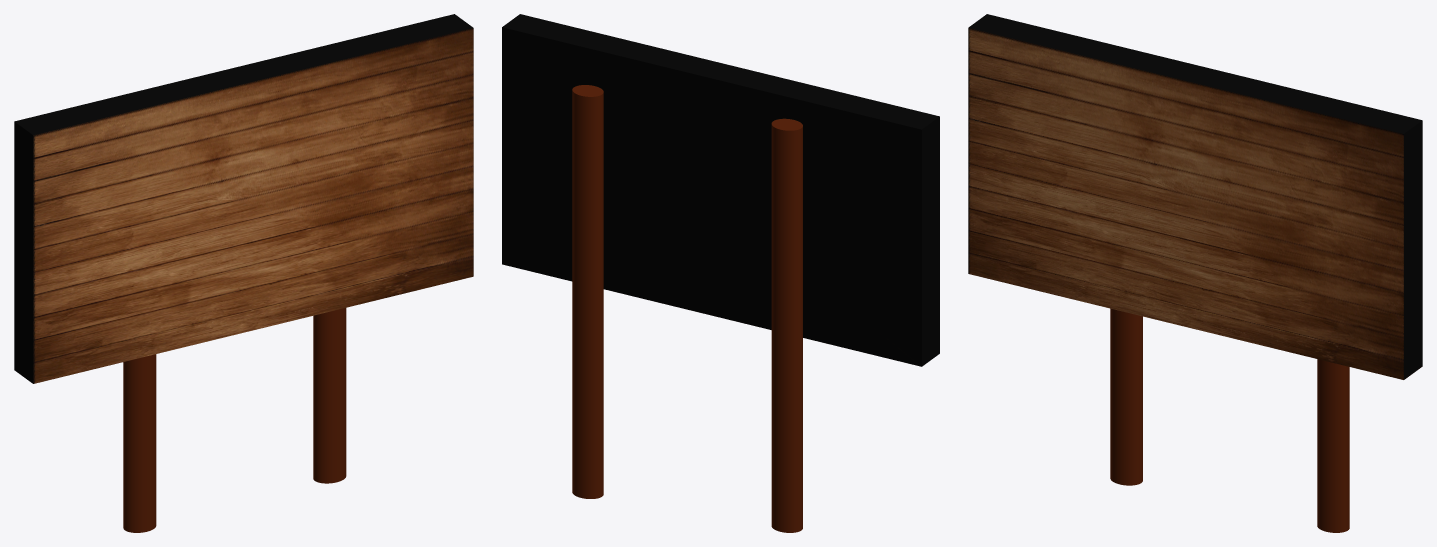
The model's file is Bilboard.fbx.
3 renders of one model, left to right at view 1: azimuth 30°, elevation 25°; view 2: azimuth 150°, elevation 25°; view 3: azimuth 330°, elevation 25°, orthographic. The views are drawn at different scales.
Visible parts, largest first — view 1: root (×3); view 2: root (×3); view 3: root (×3).
Part boxes in pixels (x1,y1,x2,y2): root (×3): (14, 14, 473, 532); root (×3): (502, 14, 939, 532); root (×3): (968, 14, 1422, 532).
Bounding box in the file's own units: 1.46 × 1.42 × 0.2481.
2 materials, 1 textured.
